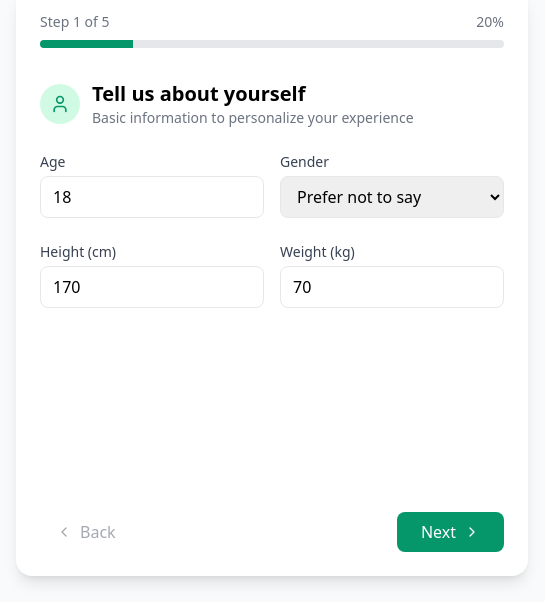
Test: Onboarding Component › should add custom medication
Note: Navigate to step 3
Step 1. Click the button "Next" → (450, 532), box [397,512,504,552]
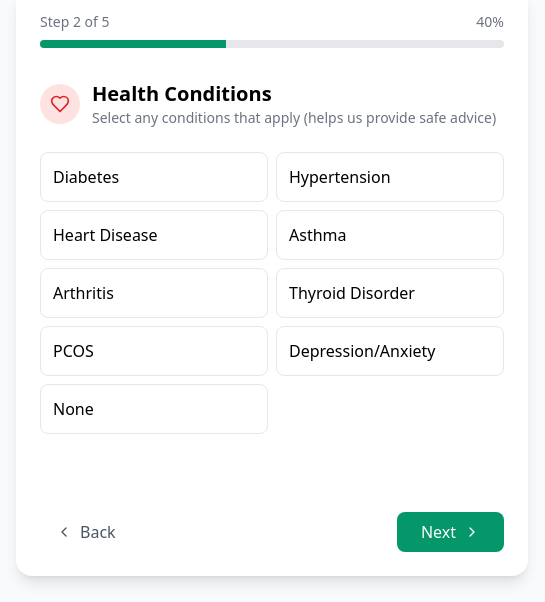
Step 2. Click the button "Next" → (450, 532), box [397,512,504,552]
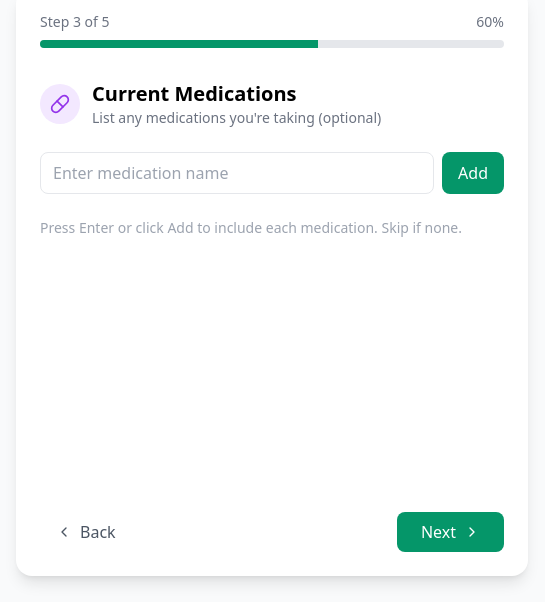
Expected: the heading "Current Medications" is shown, [92,80,296,107]
Step 3. Type "Metformin" into the field with placeholder "Enter medication name" → (237, 173), box [40,152,434,194]
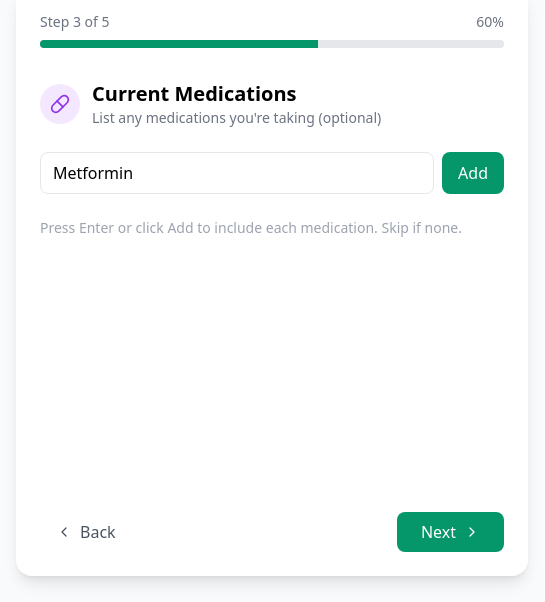
Step 4. Click the button "Add" → (473, 173), box [442,152,504,194]
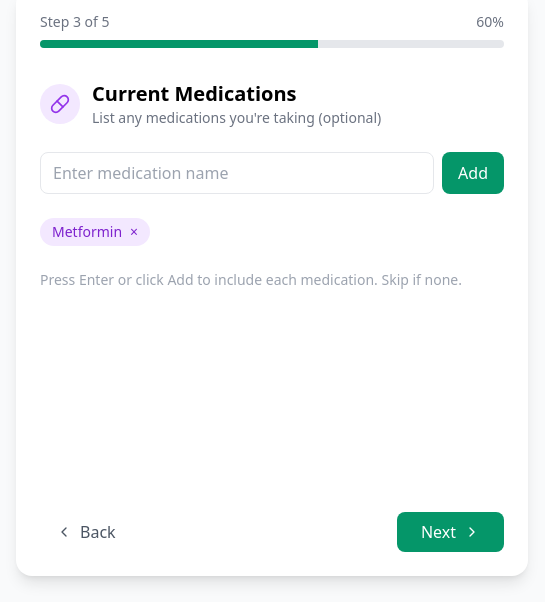
Expected: the text "Metformin" is shown, [52,222,122,241]
